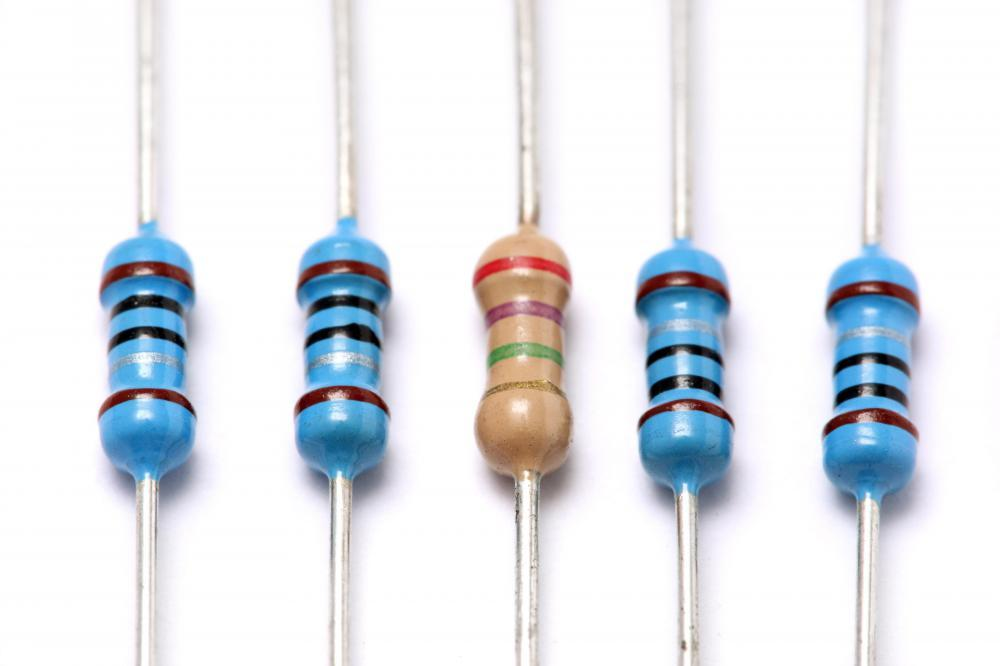resistor: (466, 221, 579, 481), (292, 214, 399, 488), (92, 222, 204, 479), (632, 237, 736, 498), (821, 244, 923, 506)
